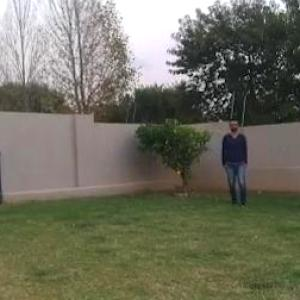follow: (224, 113, 248, 210)
